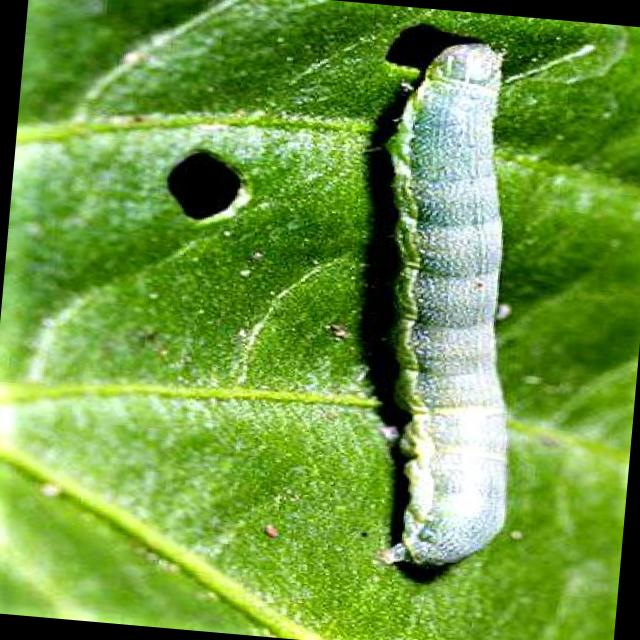Armyworm: (306, 38, 555, 582)
Armyworm_damage: (123, 121, 296, 250), (379, 7, 476, 73)
